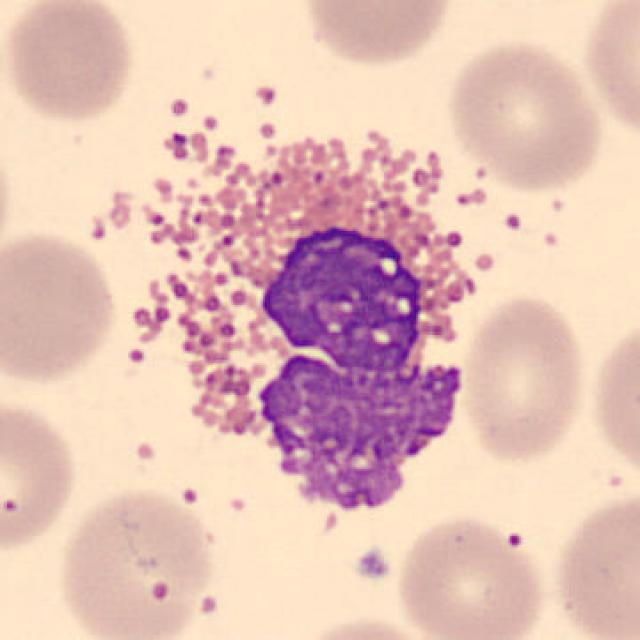Eosinophil: (112, 111, 500, 522)
Platelets: (350, 544, 393, 584)
RBC: (52, 483, 222, 640), (441, 35, 608, 194), (455, 289, 592, 469), (391, 509, 551, 640), (0, 226, 123, 388), (0, 0, 139, 125), (547, 485, 640, 640), (0, 392, 82, 557), (297, 0, 457, 71), (586, 308, 640, 488), (578, 0, 638, 145), (290, 612, 442, 640), (0, 132, 16, 266)
